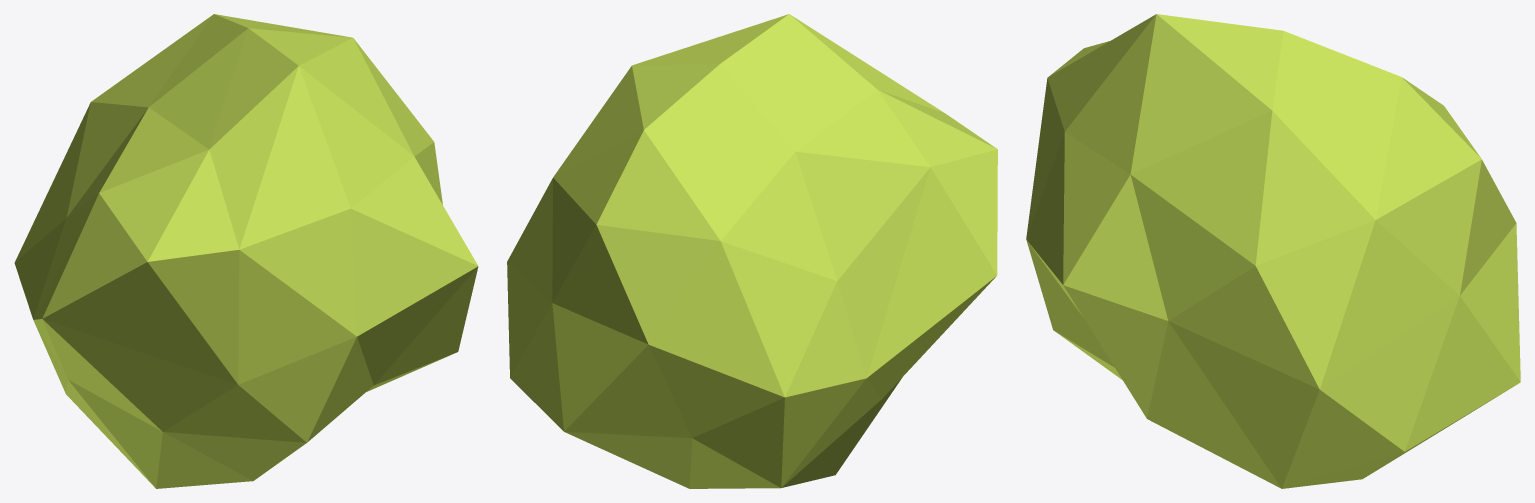
File: Rock6.obj
3 views of the same model, side by side, from view 1: azimuth 30°, elevation 25°; view 2: azimuth 150°, elevation 25°; view 3: azimuth 270°, elevation 25° (orthographic). The views are drawn at different scales.
Parts seen in each view (by area): view 1: GeoSphere001; view 2: GeoSphere001; view 3: GeoSphere001.
Boxes of the visible parts, <box> form: GeoSphere001: <box>14,14,478,488</box>; GeoSphere001: <box>507,14,997,488</box>; GeoSphere001: <box>1026,14,1520,488</box>.
Bounding box in the file's own units: 2.22 × 2.05 × 2.02.
